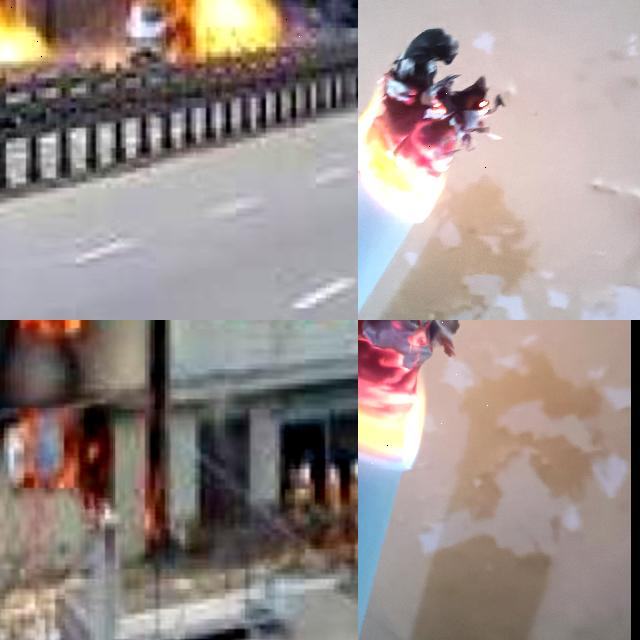fire: (358, 29, 502, 221), (358, 320, 461, 467), (2, 406, 114, 506), (0, 1, 48, 63)
